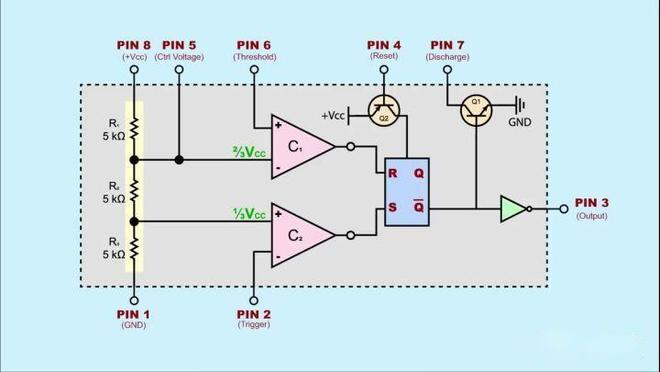bistable flip-flop: (385, 157, 429, 226)
comparator1: (271, 113, 337, 180), (271, 202, 337, 268)
discharge circuit: (459, 94, 494, 127)
output circuit: (500, 195, 534, 224)
reset circuit: (368, 94, 401, 127)
resistance: (128, 177, 140, 202), (128, 117, 140, 141), (129, 236, 140, 261)
